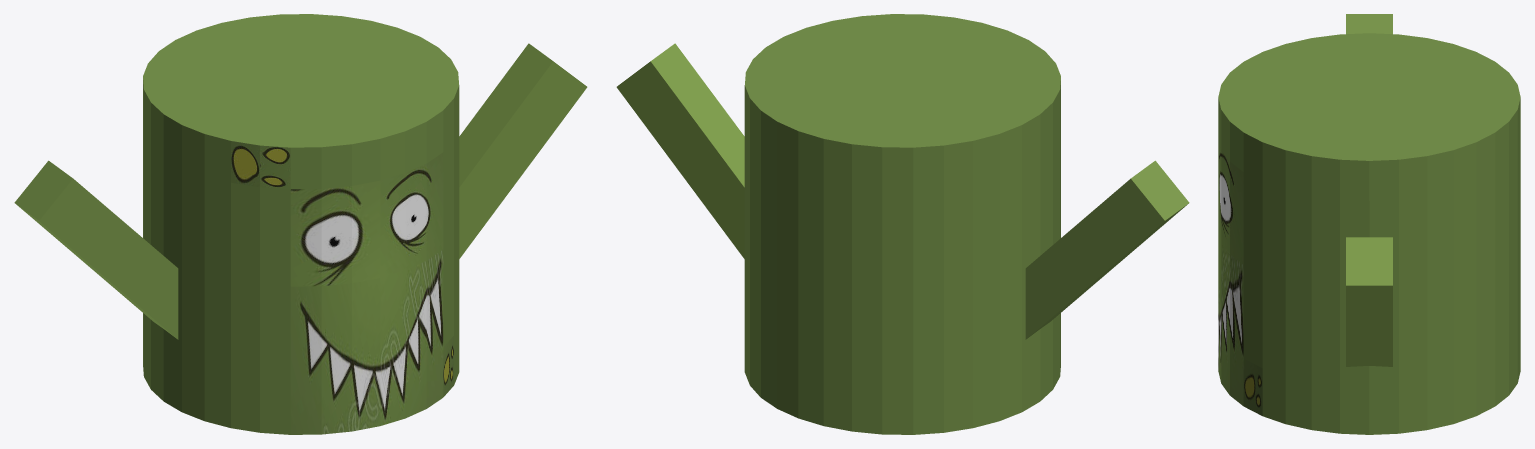
The model's file is boss 1.fbx.
The picture shows the model from 3 angles, left to right: view 1: azimuth 30°, elevation 25°; view 2: azimuth 150°, elevation 25°; view 3: azimuth 270°, elevation 25°; orthographic projection. The views are drawn at different scales.
Visible parts, largest first — view 1: Cylinder; view 2: Cylinder; view 3: Cylinder.
Boxes of the visible parts, x1,y1,x2,y2 form: Cylinder: [14, 14, 587, 434]; Cylinder: [616, 14, 1189, 434]; Cylinder: [1218, 14, 1520, 434].
Bounding box in the file's own units: 132 × 66.08 × 66.08.
2 materials, 2 textured.
